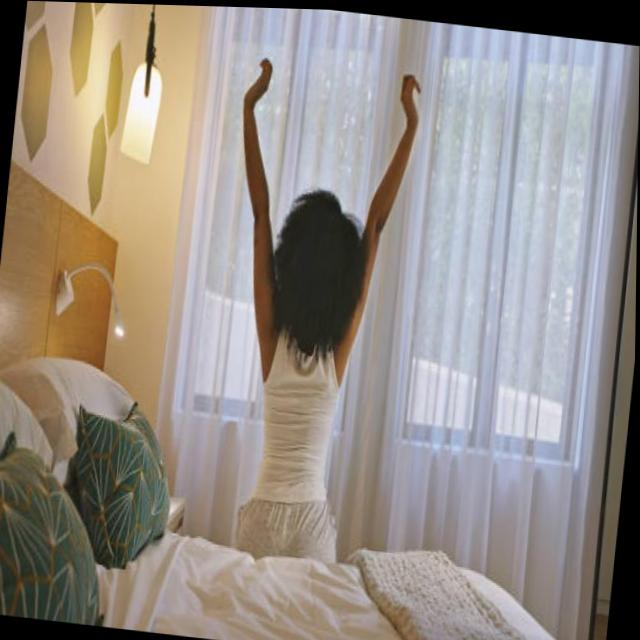no helmet: (255, 179, 375, 352)
